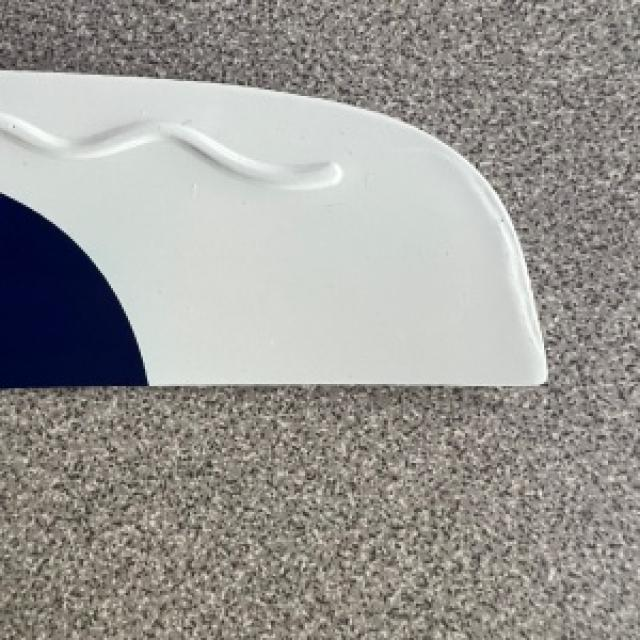healthy: (0, 68, 544, 384)
